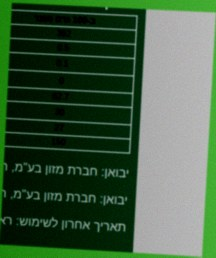carbs: (51, 90, 70, 103)
energy: (55, 27, 73, 40)
fat: (56, 42, 71, 54)
protein: (53, 122, 65, 134)
